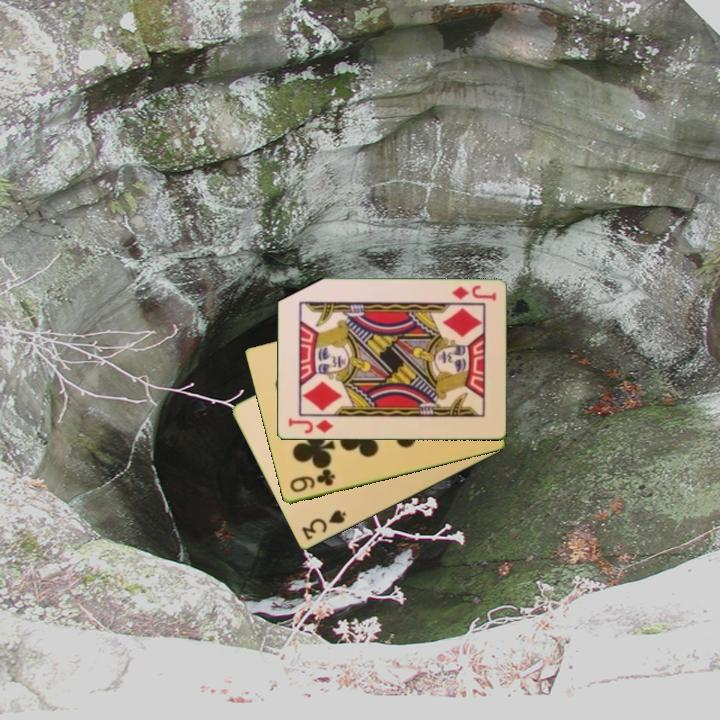3s: (298, 507, 349, 544)
9c: (286, 467, 338, 496)
Jd: (284, 415, 335, 437), (449, 282, 499, 304)
